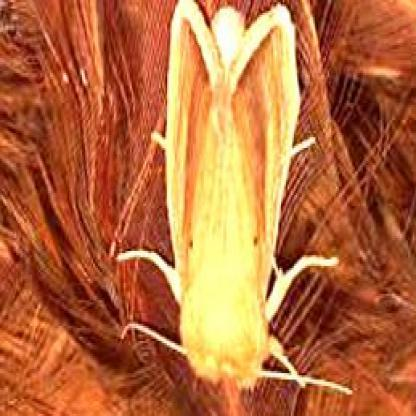stem-borer: (162, 0, 304, 391)
